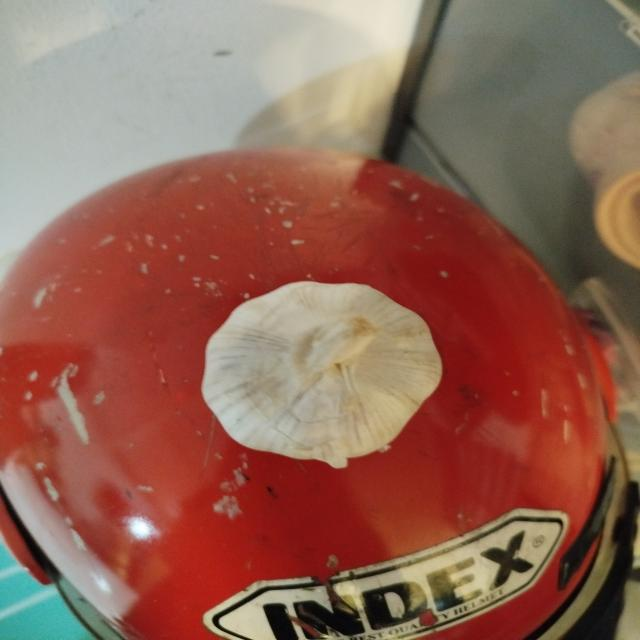garlic: (200, 280, 443, 469)
